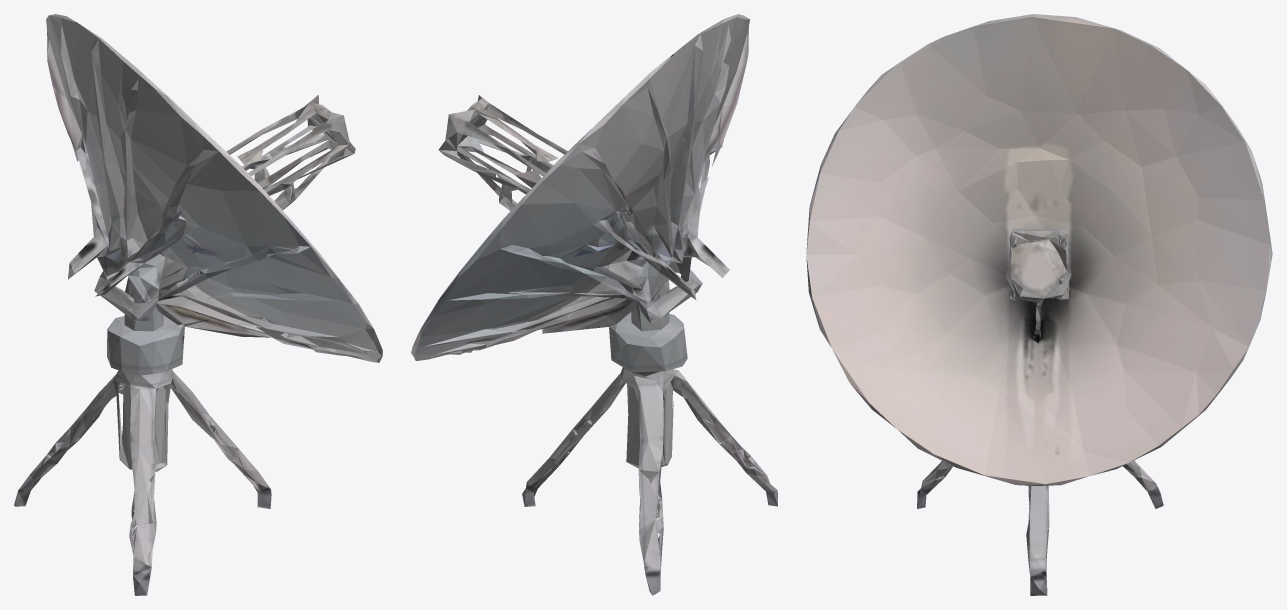
The model's file is signal_dish.glb.
The picture shows the model from 3 angles, left to right: view 1: azimuth 30°, elevation 25°; view 2: azimuth 150°, elevation 25°; view 3: azimuth 270°, elevation 25°; orthographic projection. The views are drawn at different scales.
Visible parts, largest first — view 1: textured_mesh.obj; view 2: textured_mesh.obj; view 3: textured_mesh.obj.
Boxes of the visible parts, <box> form: textured_mesh.obj: <box>14,14,382,595</box>; textured_mesh.obj: <box>411,14,777,595</box>; textured_mesh.obj: <box>806,14,1272,595</box>.
Size of the model in its own units: 1.45 by 2.6 by 2.19.
1 material, 1 textured.
